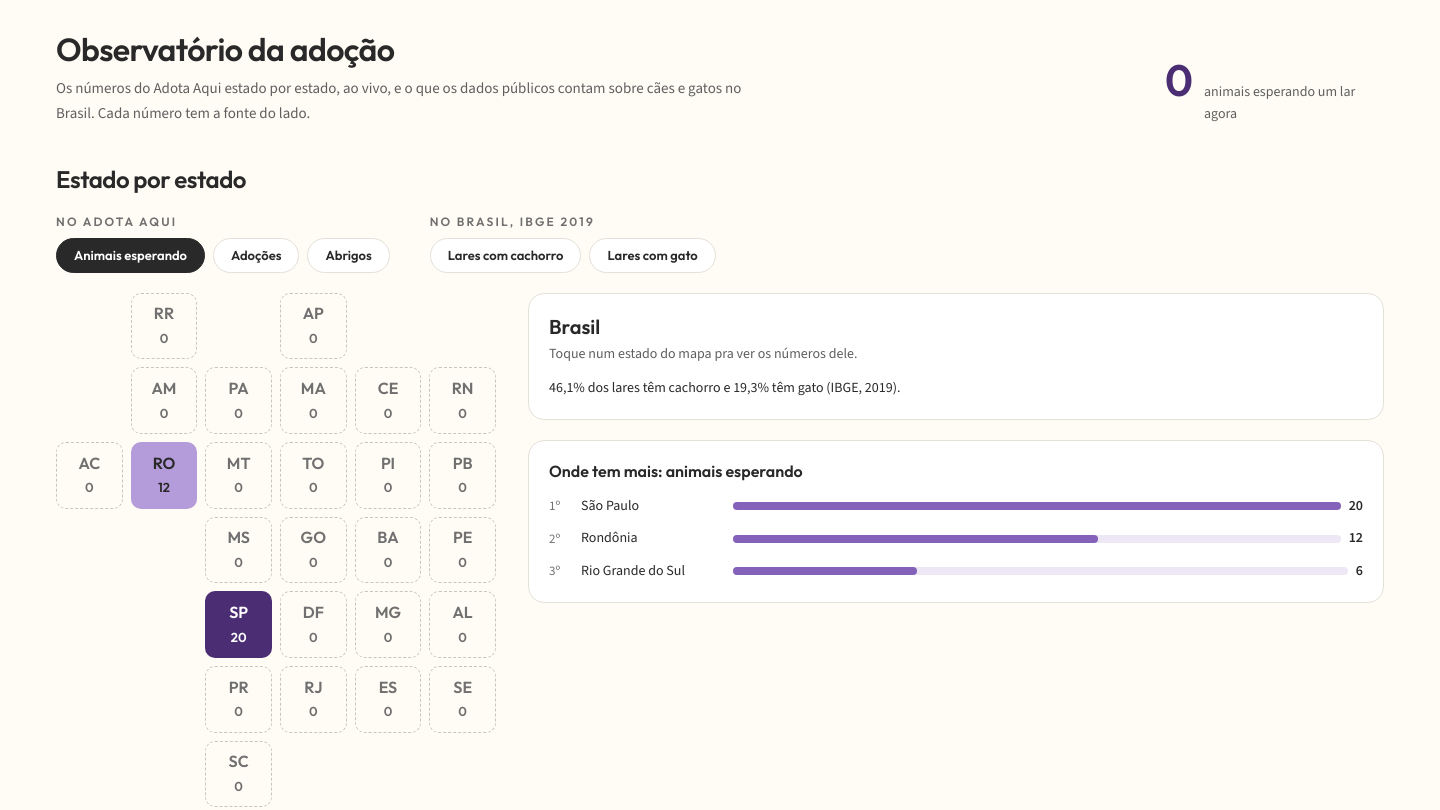
Test: troca pra porcentagem dos lares com cachorro, do IBGE, com a fonte
Click the button "Lares com cachorro".
click(506, 255)  # box [430,238,582,273]
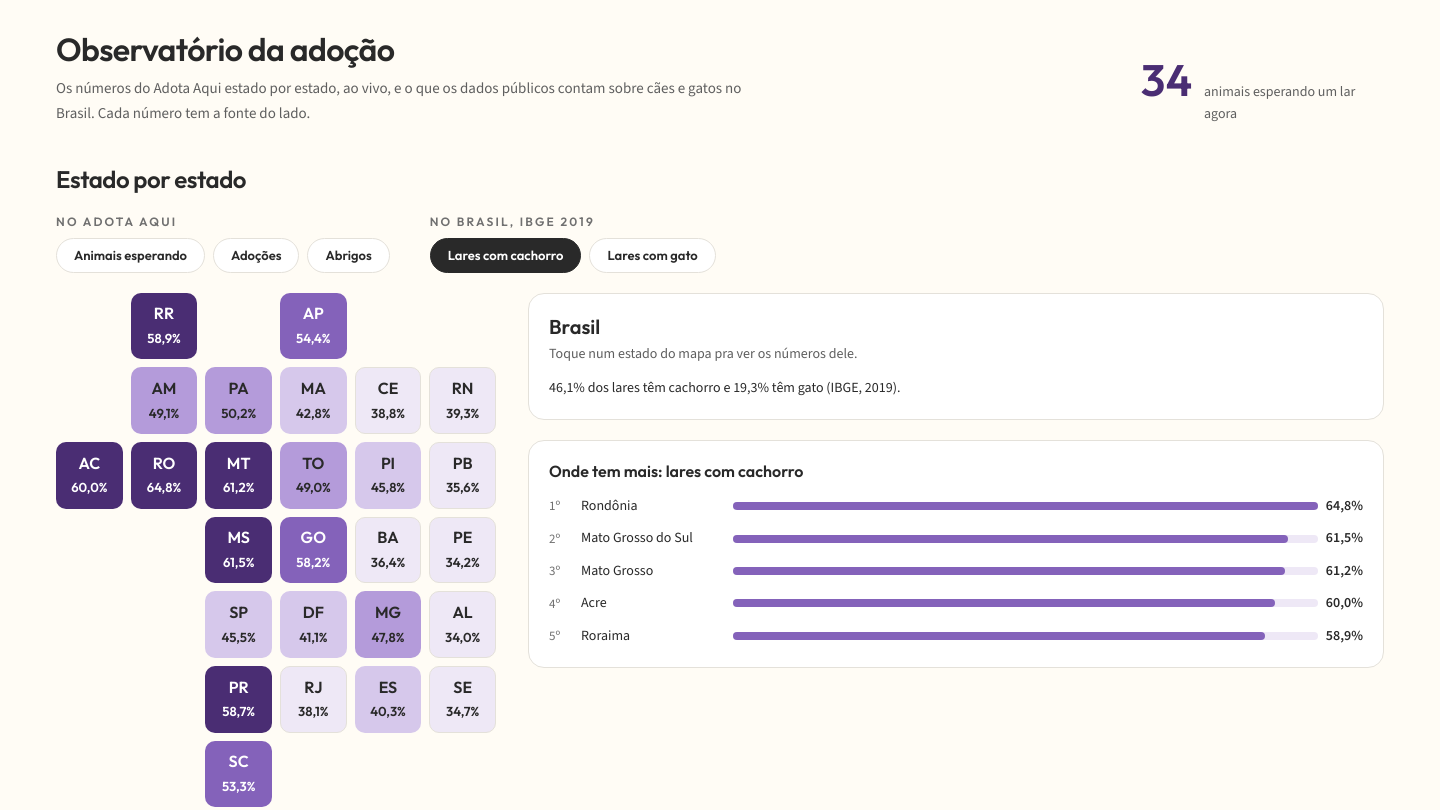
Result: the button with aria-label "Rondônia: 64,8% dos lares têm cachorro" is shown at [131,442,197,509]
